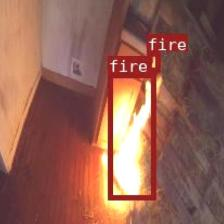fire: (107, 72, 155, 199), (146, 50, 160, 72)
